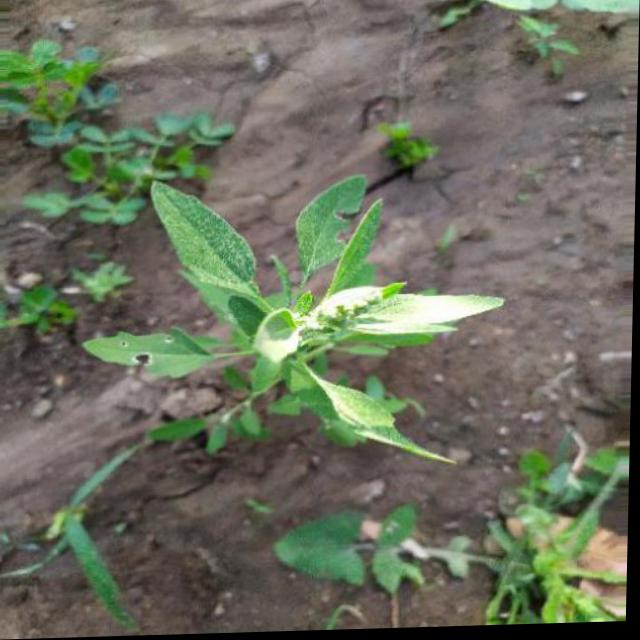weed: (73, 163, 513, 504)
